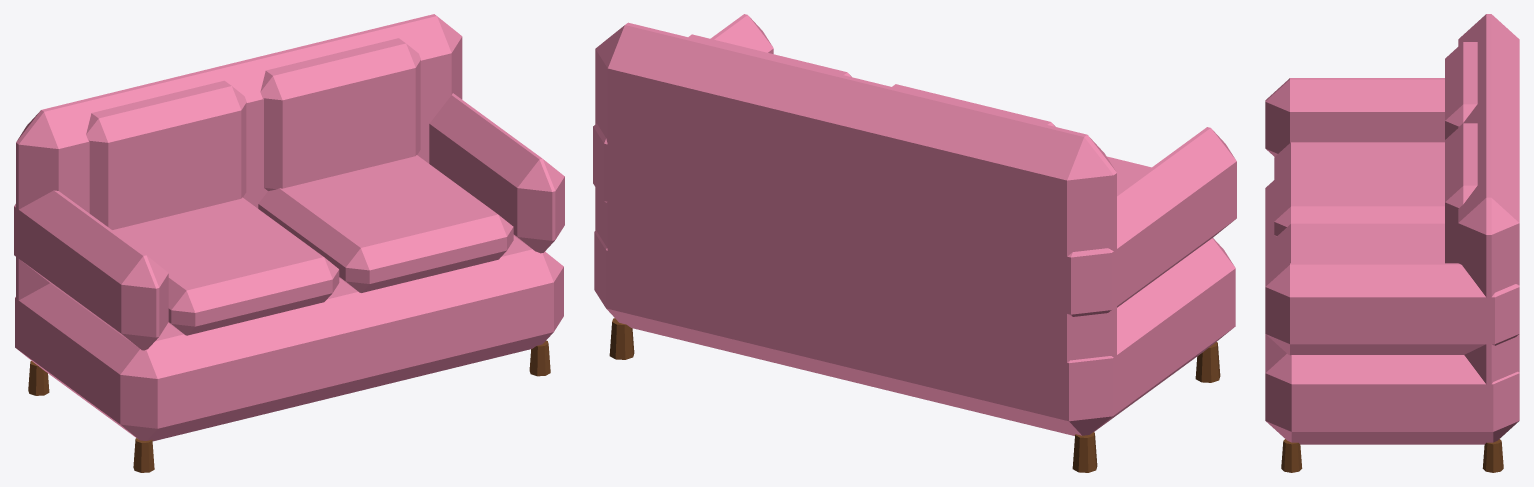
Rendered from PinkSofa.fbx.
3 views of the same model, side by side, from view 1: azimuth 30°, elevation 25°; view 2: azimuth 150°, elevation 25°; view 3: azimuth 270°, elevation 25° (orthographic). The views are drawn at different scales.
Parts seen in each view (by area): view 1: PinkSofa; view 2: PinkSofa; view 3: PinkSofa.
Boxes of the visible parts, left/top/right/bottom form: PinkSofa: left=14, top=14, right=564, bottom=472; PinkSofa: left=593, top=14, right=1236, bottom=472; PinkSofa: left=1265, top=14, right=1519, bottom=472.
Size of the model in its own units: 5.6 by 3.4 by 2.9.
Materials: 1 (1 with a texture image).
